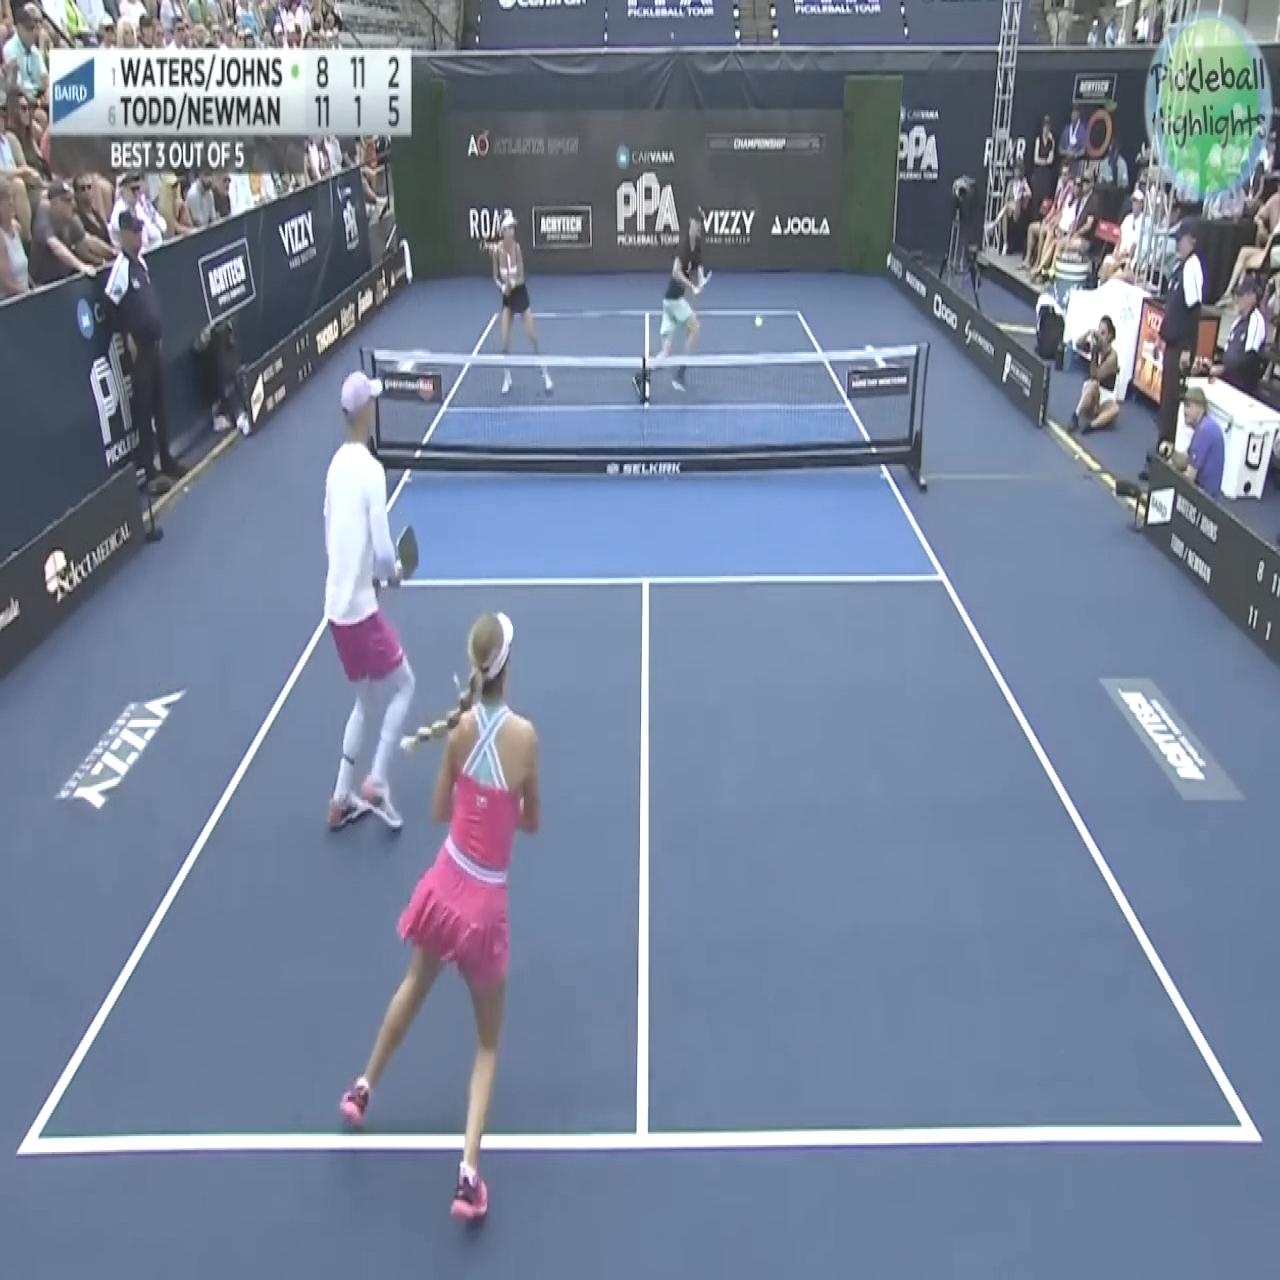Pickleball: (753, 309, 765, 333)
